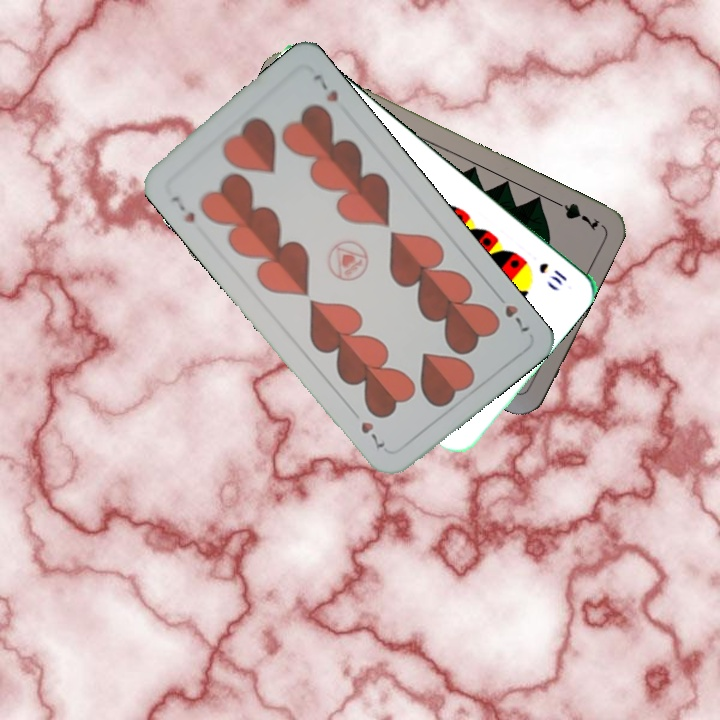G7: (547, 195, 602, 234)
H7: (490, 287, 532, 337), (166, 191, 198, 226)
S10: (535, 258, 570, 288)
